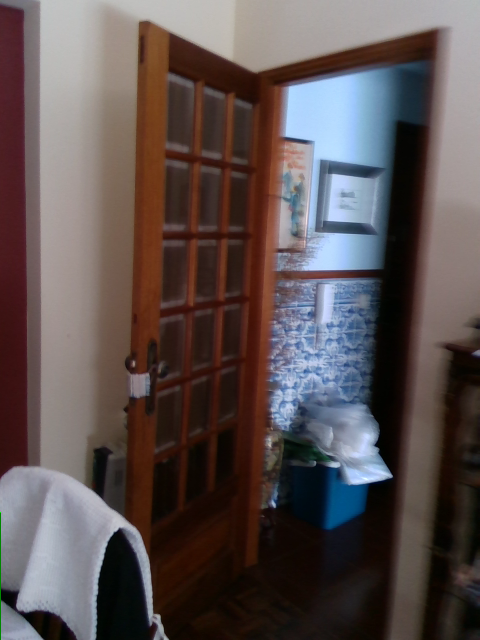open: (127, 19, 439, 630)
